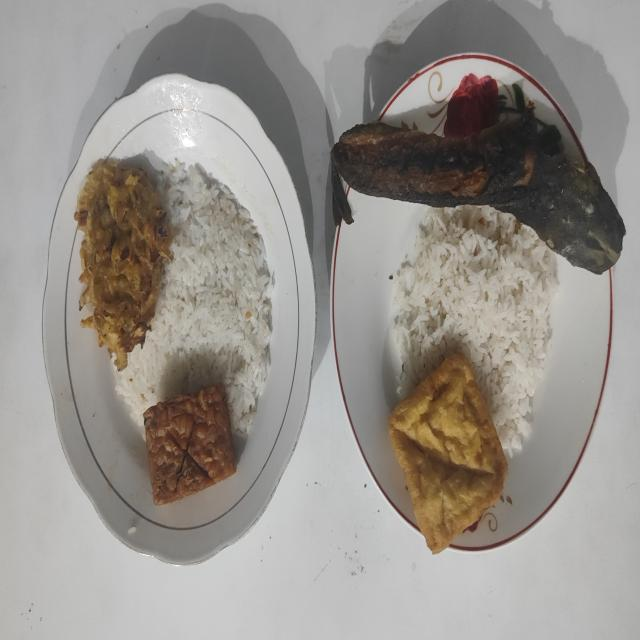nasi_putih: (116, 160, 274, 438), (390, 206, 558, 456)
tahu_goreng: (388, 354, 508, 554)
tempe_goreng: (144, 384, 236, 504)
